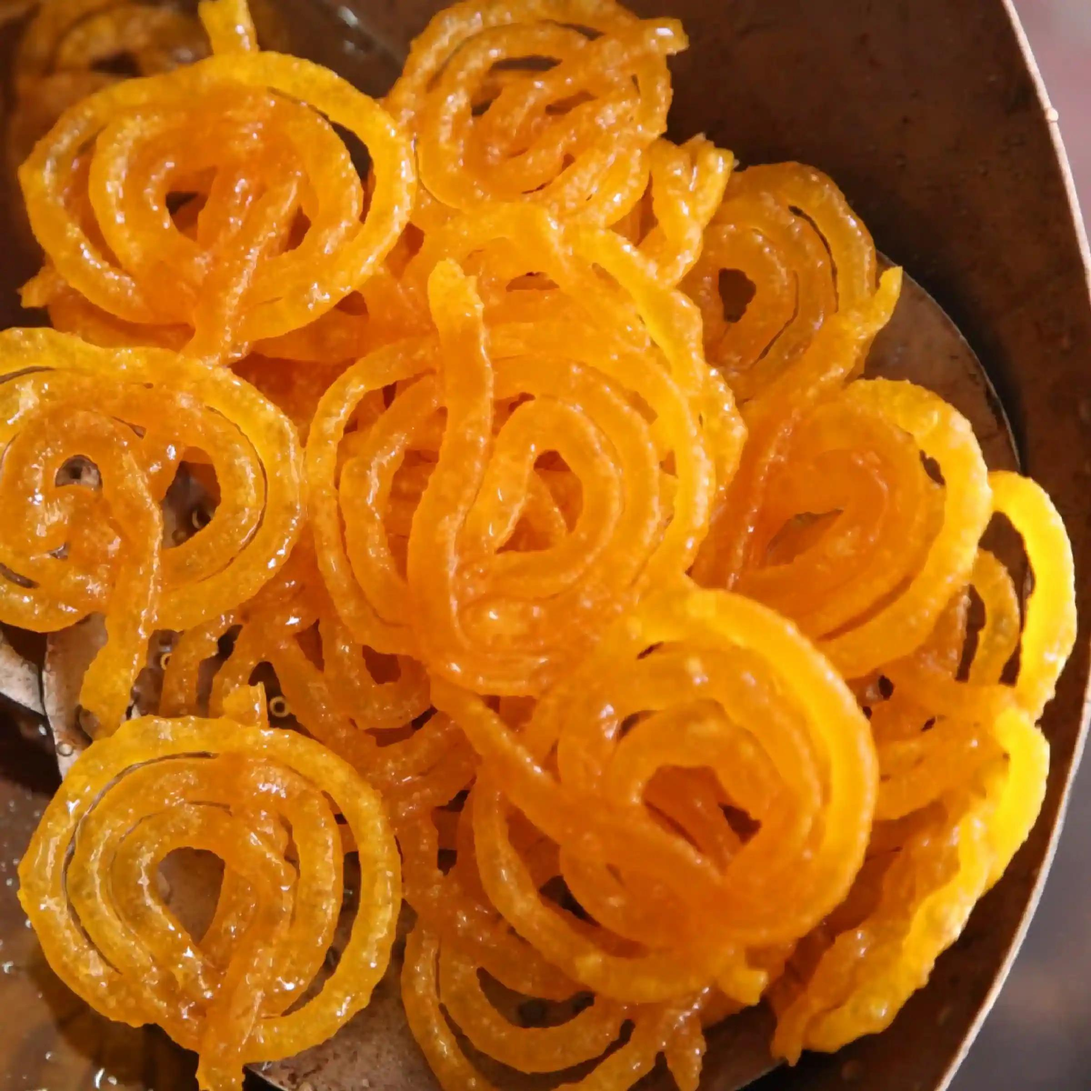Jalebi: (0, 3, 1087, 1091)
